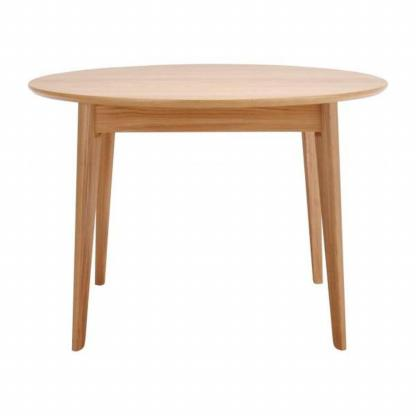Table: (25, 49, 397, 356)
